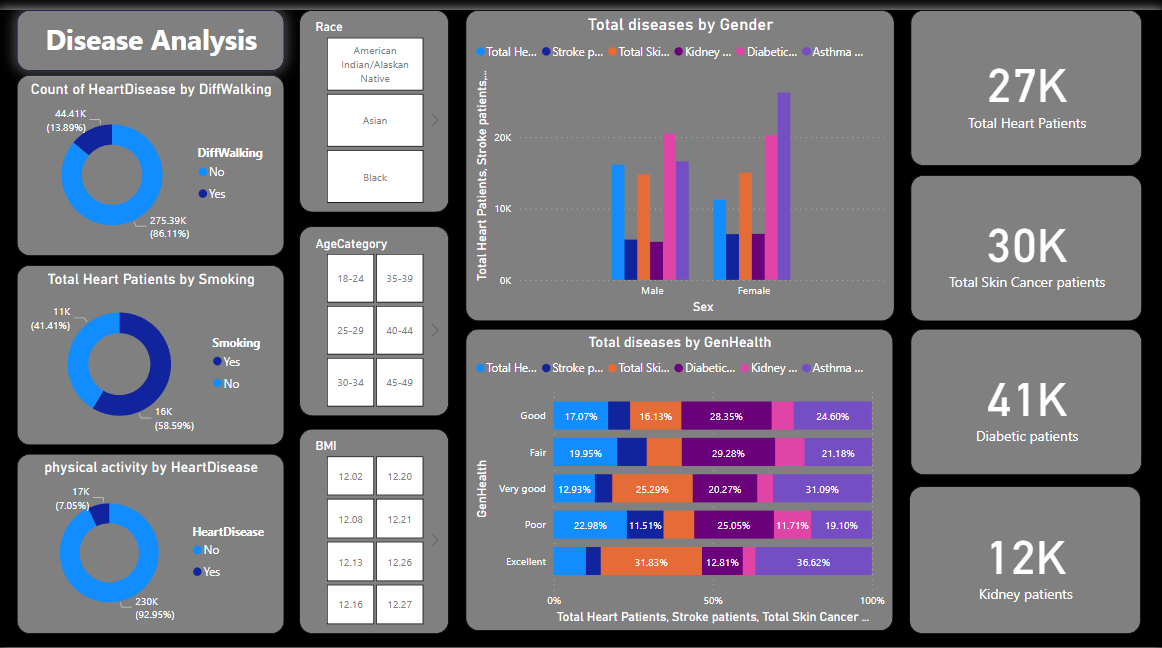

The dashboard page shown, as its layout file describes it:
{"tool":"powerbi","page":{"name":"Page 1","canvas":[1346,735],"ordinal":0},"visuals":[{"type":"clusteredColumnChart","title":"Total diseases by Gender","fields":{"Category":["heart_2020_cleaned.Sex"],"Y":["heart_2020_cleaned.Total Heart Patients","heart_2020_cleaned.Stroke patients","heart_2020_cleaned.Total Skin Cancer patients","heart_2020_cleaned.Kidney patients","heart_2020_cleaned.Diabetic patients","heart_2020_cleaned.Asthma patients"]},"box":[539.6,0,494.8,359.2],"z":0},{"type":"card","fields":{"Values":["heart_2020_cleaned.heart disease"]},"box":[1053.1,0,266.9,180.3],"z":1000},{"type":"card","fields":{"Values":["heart_2020_cleaned.Smokers"]},"box":[1053.1,367.9,266.9,168.8],"z":2000},{"type":"card","fields":{"Values":["heart_2020_cleaned.Alcohol drinkers"]},"box":[1051.7,549.7,266.9,170.2],"z":3000},{"type":"donutChart","fields":{"Y":["CountNonNull(heart_2020_cleaned.HeartDisease)"],"Category":["heart_2020_cleaned.DiffWalking"]},"box":[21.6,75,308.7,209.2],"z":4000},{"type":"textbox","box":[21.6,0,308.7,70.7],"z":5000},{"type":"donutChart","fields":{"Y":["heart_2020_cleaned.Total Heart Patients"],"Category":["heart_2020_cleaned.Smoking","heart_2020_cleaned.AlcoholDrinking"]},"box":[21.6,294.3,308.7,207.7],"z":6000},{"type":"card","fields":{"Values":["heart_2020_cleaned.Total Skin Cancer patients"]},"box":[1053.1,190.4,266.9,168.8],"z":7000},{"type":"donutChart","fields":{"Y":["heart_2020_cleaned.physical activity"],"Category":["heart_2020_cleaned.HeartDisease"]},"box":[21.6,512.1,308.7,207.7],"z":8000},{"type":"slicer","fields":{"Values":["heart_2020_cleaned.Race"]},"box":[347.7,0,173.1,233.7],"z":9000},{"type":"slicer","fields":{"Values":["heart_2020_cleaned.AgeCategory"]},"box":[347.7,249.6,173.1,219.3],"z":10000},{"type":"hundredPercentStackedBarChart","title":"Total diseases by GenHealth","fields":{"Category":["heart_2020_cleaned.GenHealth"],"Y":["heart_2020_cleaned.Total Heart Patients","heart_2020_cleaned.Stroke patients","heart_2020_cleaned.Total Skin Cancer patients","heart_2020_cleaned.Diabetic patients","heart_2020_cleaned.Kidney patients","heart_2020_cleaned.Asthma patients"]},"box":[539.6,367.9,493.4,349.1],"z":11000},{"type":"slicer","fields":{"Values":["heart_2020_cleaned.BMI"]},"box":[347.7,483.3,173.1,236.6],"z":12000}]}

Visuals, with their boxes in screenshot pixels (x1, y1, x2, y2), scaled from the page's 1346x735 canvas onto the 1162x648 screenshot:
"Total diseases by Gender" clusteredColumnChart: Rect(466, 0, 893, 317)
card - heart_2020_cleaned.heart disease: Rect(909, 0, 1140, 159)
card - heart_2020_cleaned.Smokers: Rect(909, 324, 1140, 473)
card - heart_2020_cleaned.Alcohol drinkers: Rect(908, 485, 1138, 635)
donutChart - CountNonNull(heart_2020_cleaned.HeartDisease) x heart_2020_cleaned.DiffWalking: Rect(19, 66, 285, 251)
textbox: Rect(19, 0, 285, 62)
donutChart - heart_2020_cleaned.Total Heart Patients x heart_2020_cleaned.Smoking: Rect(19, 259, 285, 443)
card - heart_2020_cleaned.Total Skin Cancer patients: Rect(909, 168, 1140, 317)
donutChart - heart_2020_cleaned.physical activity x heart_2020_cleaned.HeartDisease: Rect(19, 451, 285, 635)
slicer - heart_2020_cleaned.Race: Rect(300, 0, 450, 206)
slicer - heart_2020_cleaned.AgeCategory: Rect(300, 220, 450, 413)
"Total diseases by GenHealth" hundredPercentStackedBarChart: Rect(466, 324, 892, 632)
slicer - heart_2020_cleaned.BMI: Rect(300, 426, 450, 635)
